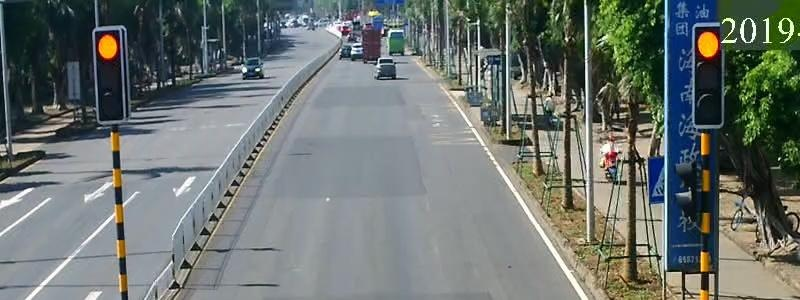red: (88, 33, 129, 66), (691, 21, 723, 59)
